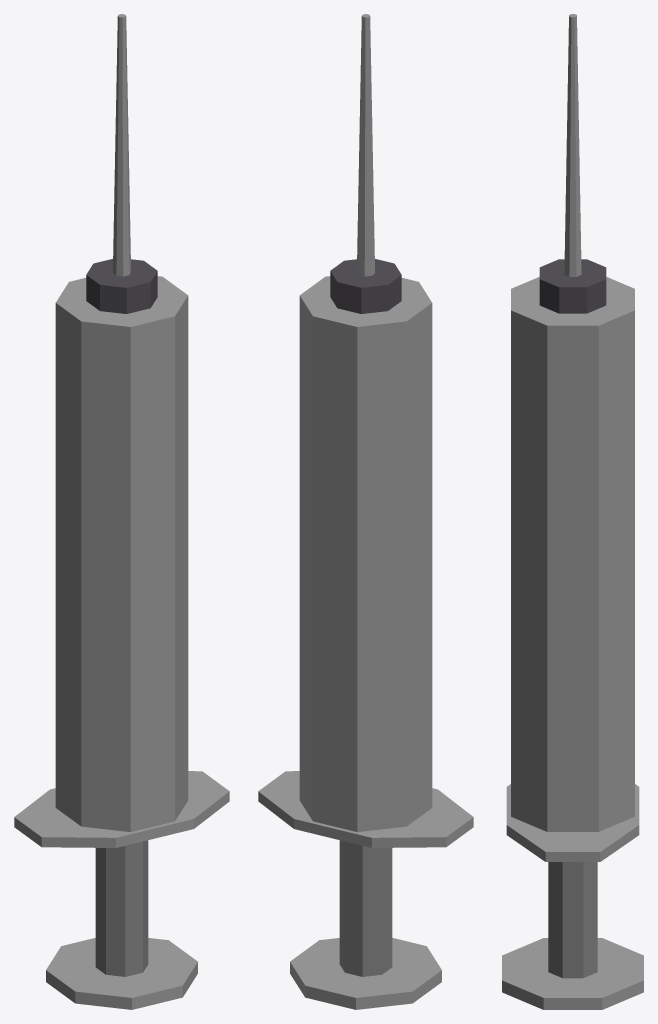
The model's file is MedicalKit_02.fbx.
3 views of the same model, side by side, from view 1: azimuth 30°, elevation 25°; view 2: azimuth 150°, elevation 25°; view 3: azimuth 270°, elevation 25° (orthographic).
Parts seen in each view (by area): view 1: MedicalKit_02; view 2: MedicalKit_02; view 3: MedicalKit_02.
Boxes of the visible parts, box(x1,y1,x2,y2) form: MedicalKit_02: box(14, 14, 229, 1009); MedicalKit_02: box(258, 14, 473, 1009); MedicalKit_02: box(502, 14, 643, 1009).
Bounding box in the file's own units: 3.84 × 18.79 × 2.51.
